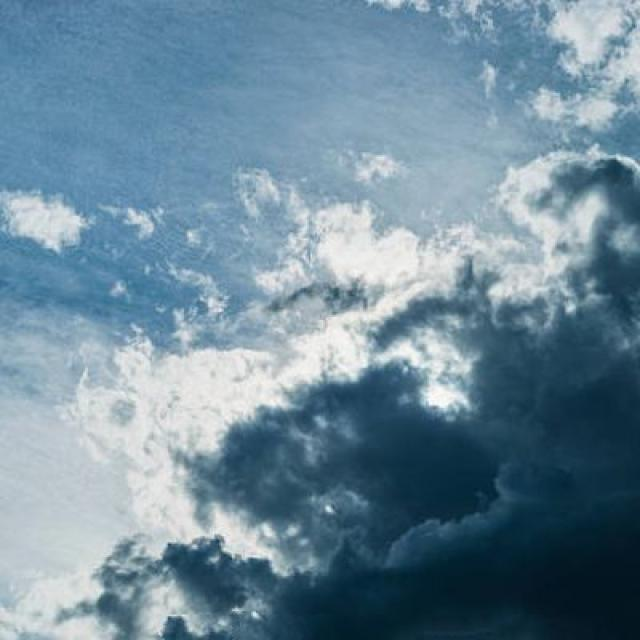Cc: (8, 150, 640, 579)
